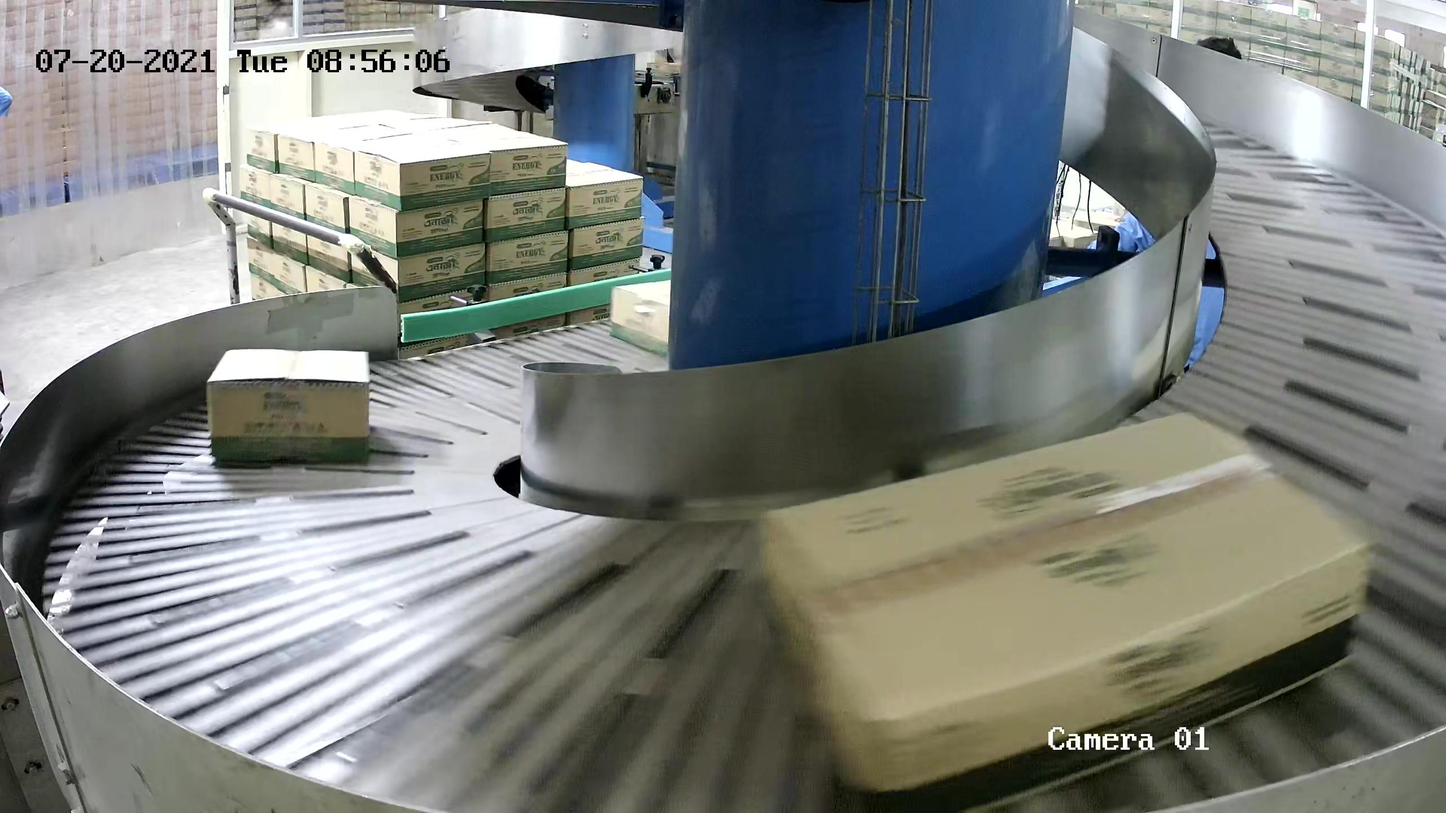Box: (758, 407, 1377, 813), (205, 348, 371, 465), (610, 270, 743, 363)
